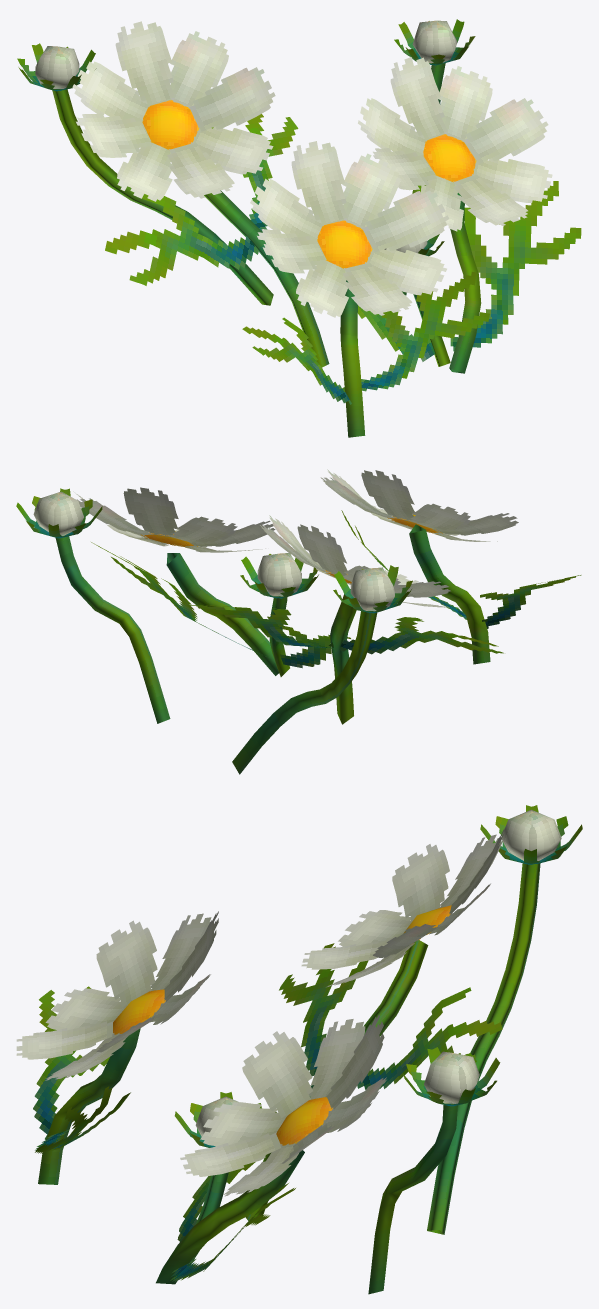
The model's file is white-cosmos.glb.
3 renders of one model, top to bottom at view 1: azimuth 30°, elevation 25°; view 2: azimuth 150°, elevation 25°; view 3: azimuth 270°, elevation 25°, orthographic. The views are drawn at different scales.
Bounding box in the file's own units: 10.23 × 6.53 × 9.6.
Materials: 2 (2 with a texture image).
